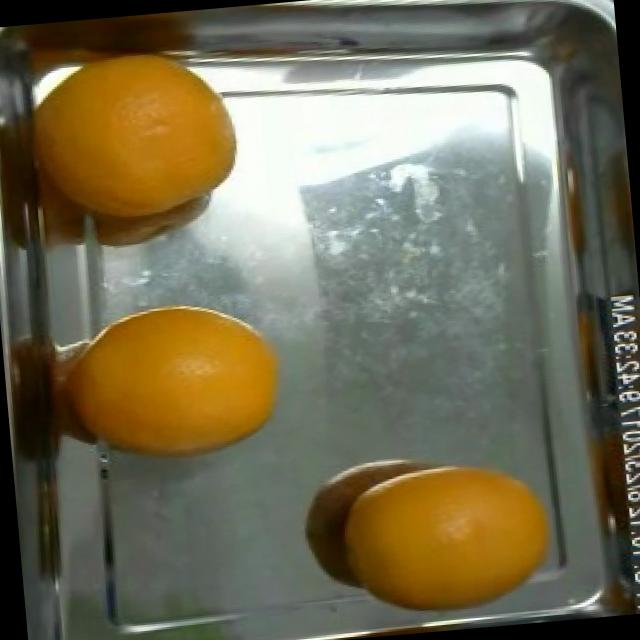Fruit: (80, 285, 300, 478)
